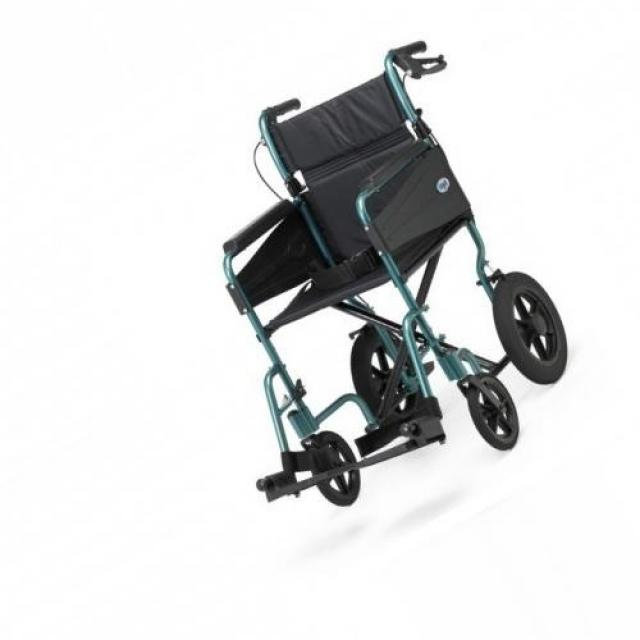wheelchair: (200, 22, 579, 512)
